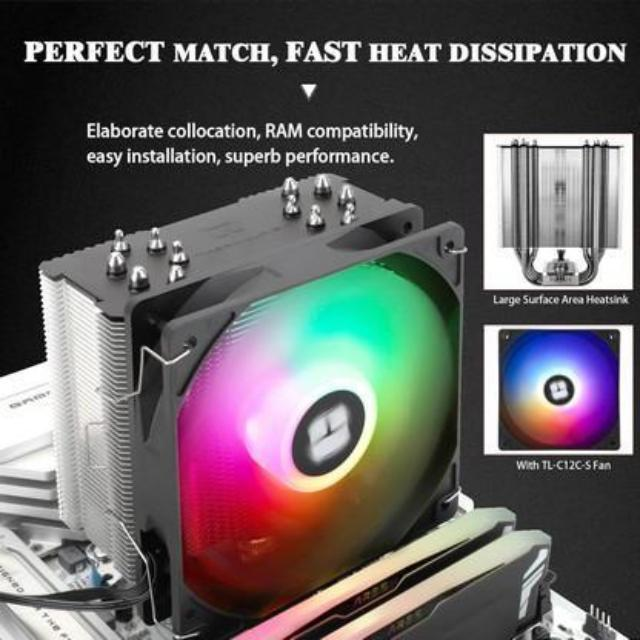CPU_Fan: (39, 169, 466, 640), (502, 138, 620, 282)
